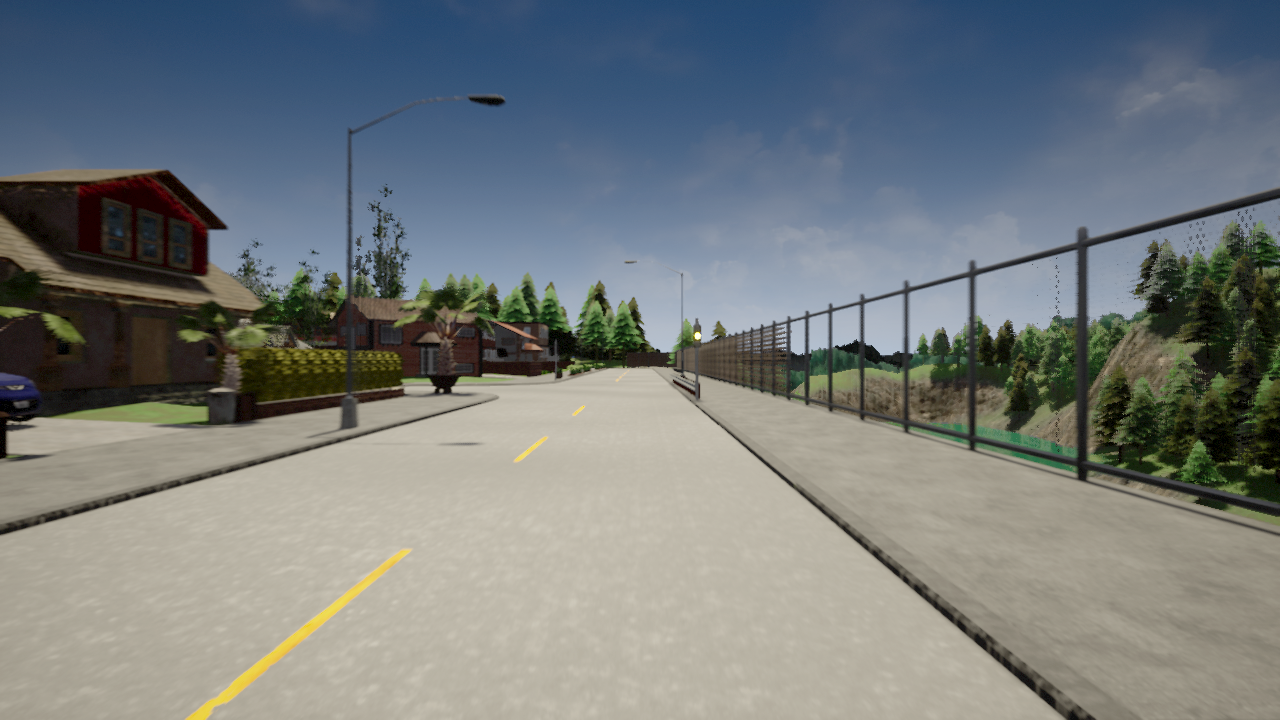yellow: (693, 323, 702, 349)
